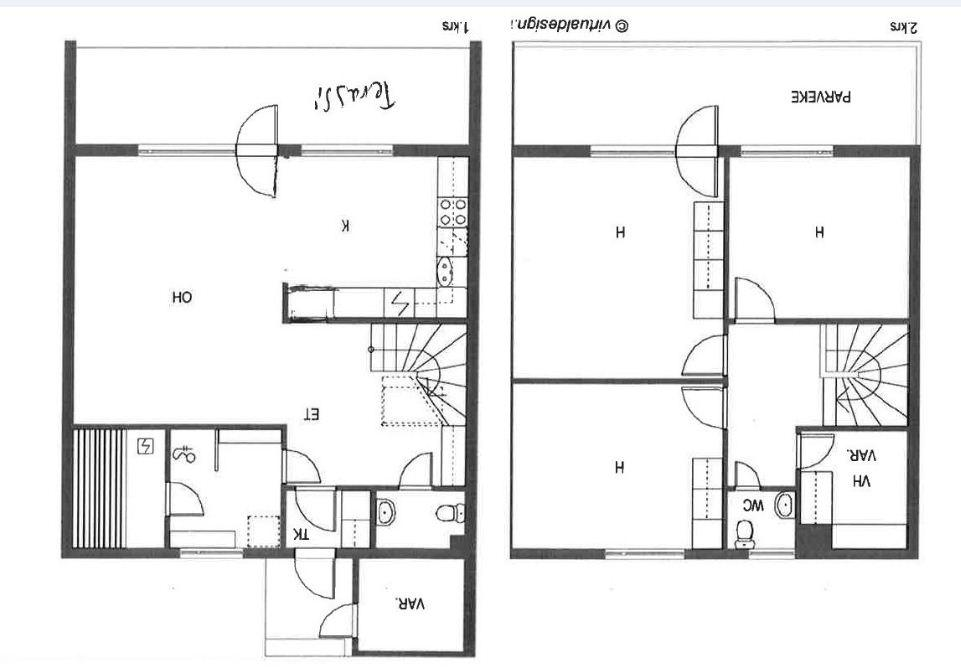bathroom: (374, 487, 466, 552), (728, 491, 797, 550)
door: (232, 142, 282, 202), (677, 384, 735, 433), (293, 542, 340, 601), (674, 102, 721, 159), (235, 100, 281, 157), (671, 146, 720, 199), (678, 332, 731, 379), (732, 273, 778, 327), (292, 485, 339, 534), (316, 597, 366, 642), (275, 445, 324, 489), (395, 447, 437, 494), (795, 433, 839, 472), (163, 481, 207, 520), (730, 458, 762, 492)
perimeter: (59, 142, 476, 659), (511, 144, 918, 561)
stairs: (371, 322, 466, 426), (823, 326, 910, 428)
window: (290, 137, 402, 167), (580, 137, 676, 170), (130, 139, 238, 166), (734, 139, 840, 165), (596, 543, 694, 565), (173, 543, 250, 565), (741, 541, 800, 565)
